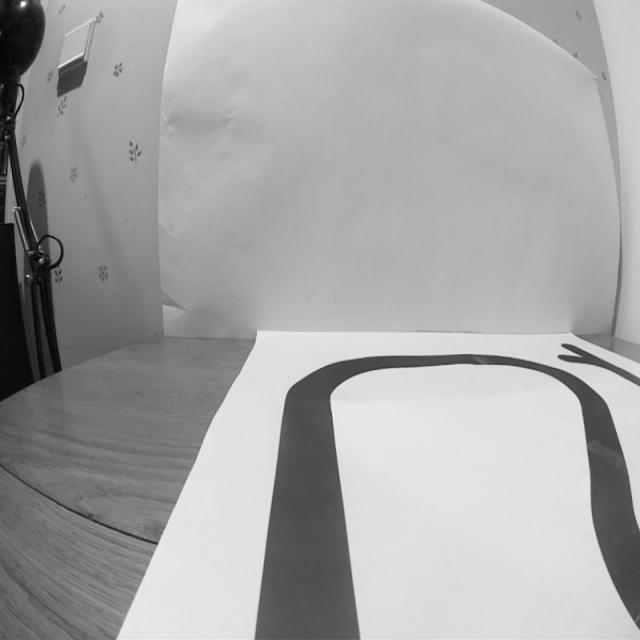lineStraight: (239, 474, 372, 640)
